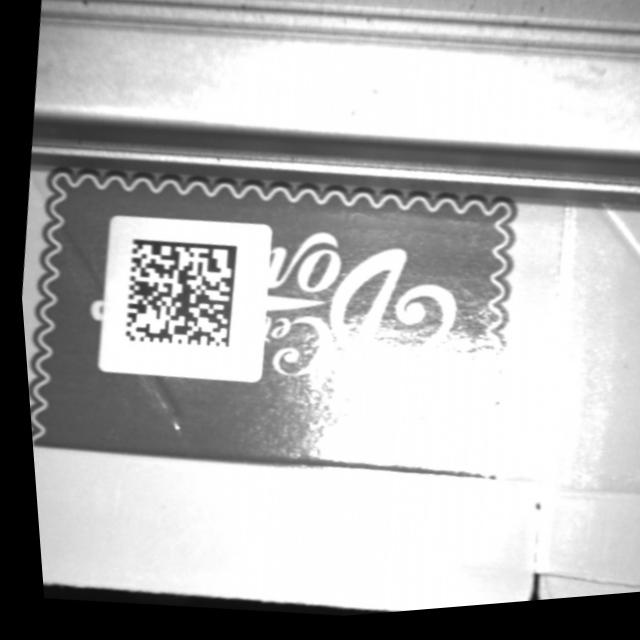datamatrix: (114, 234, 241, 358)
